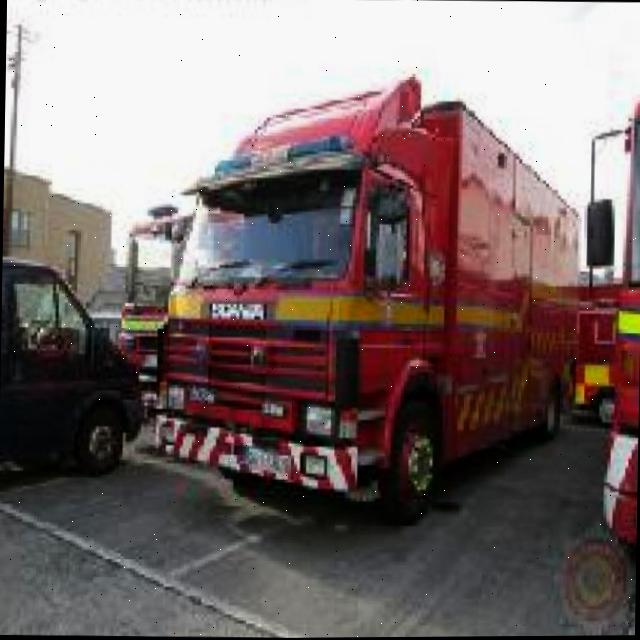emergency: (163, 72, 580, 534), (112, 198, 260, 461), (596, 88, 640, 557)
